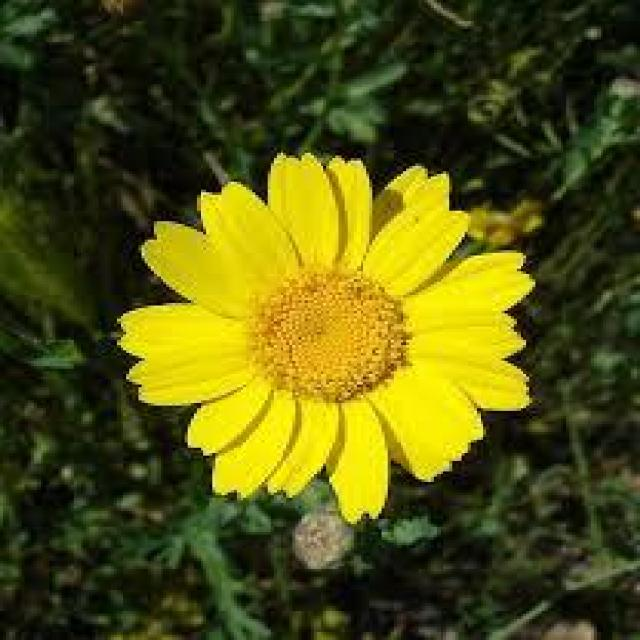organic waste: (120, 148, 542, 510)
